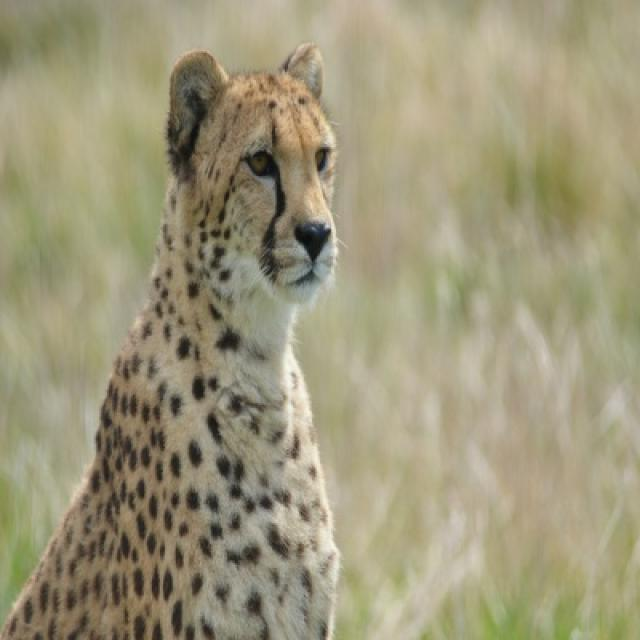Cheetah: (0, 43, 342, 638)
